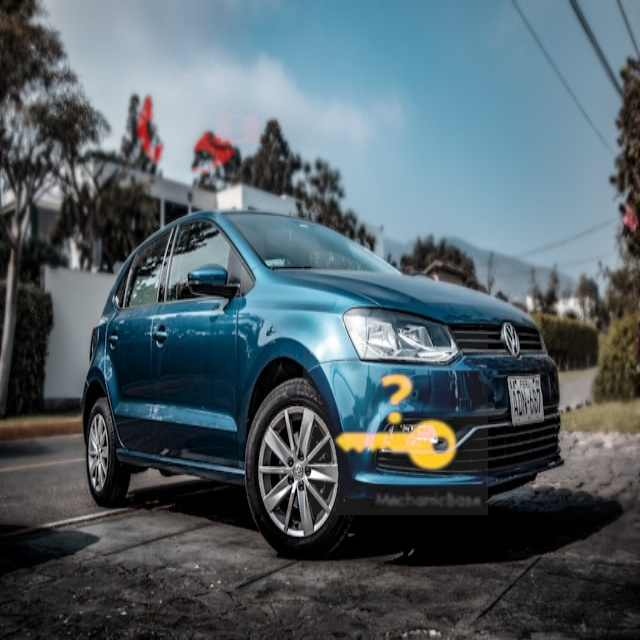symbol: (303, 330, 488, 515), (117, 42, 284, 209)
